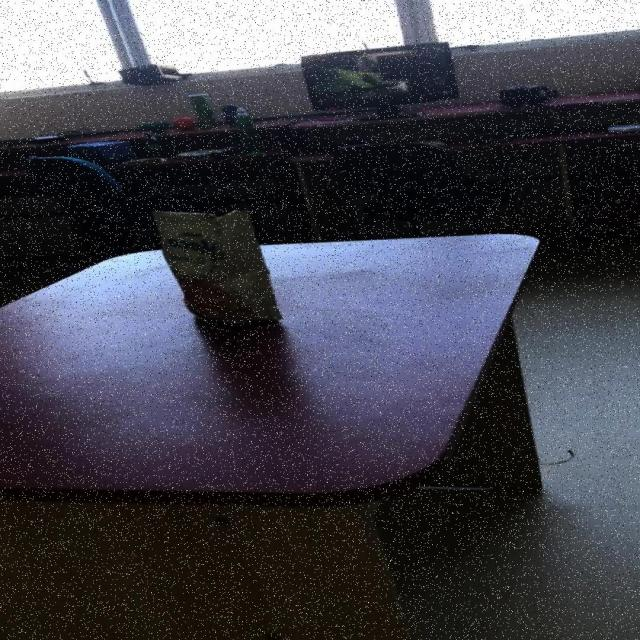CornFlakes: (152, 206, 285, 324), (189, 92, 219, 128)
